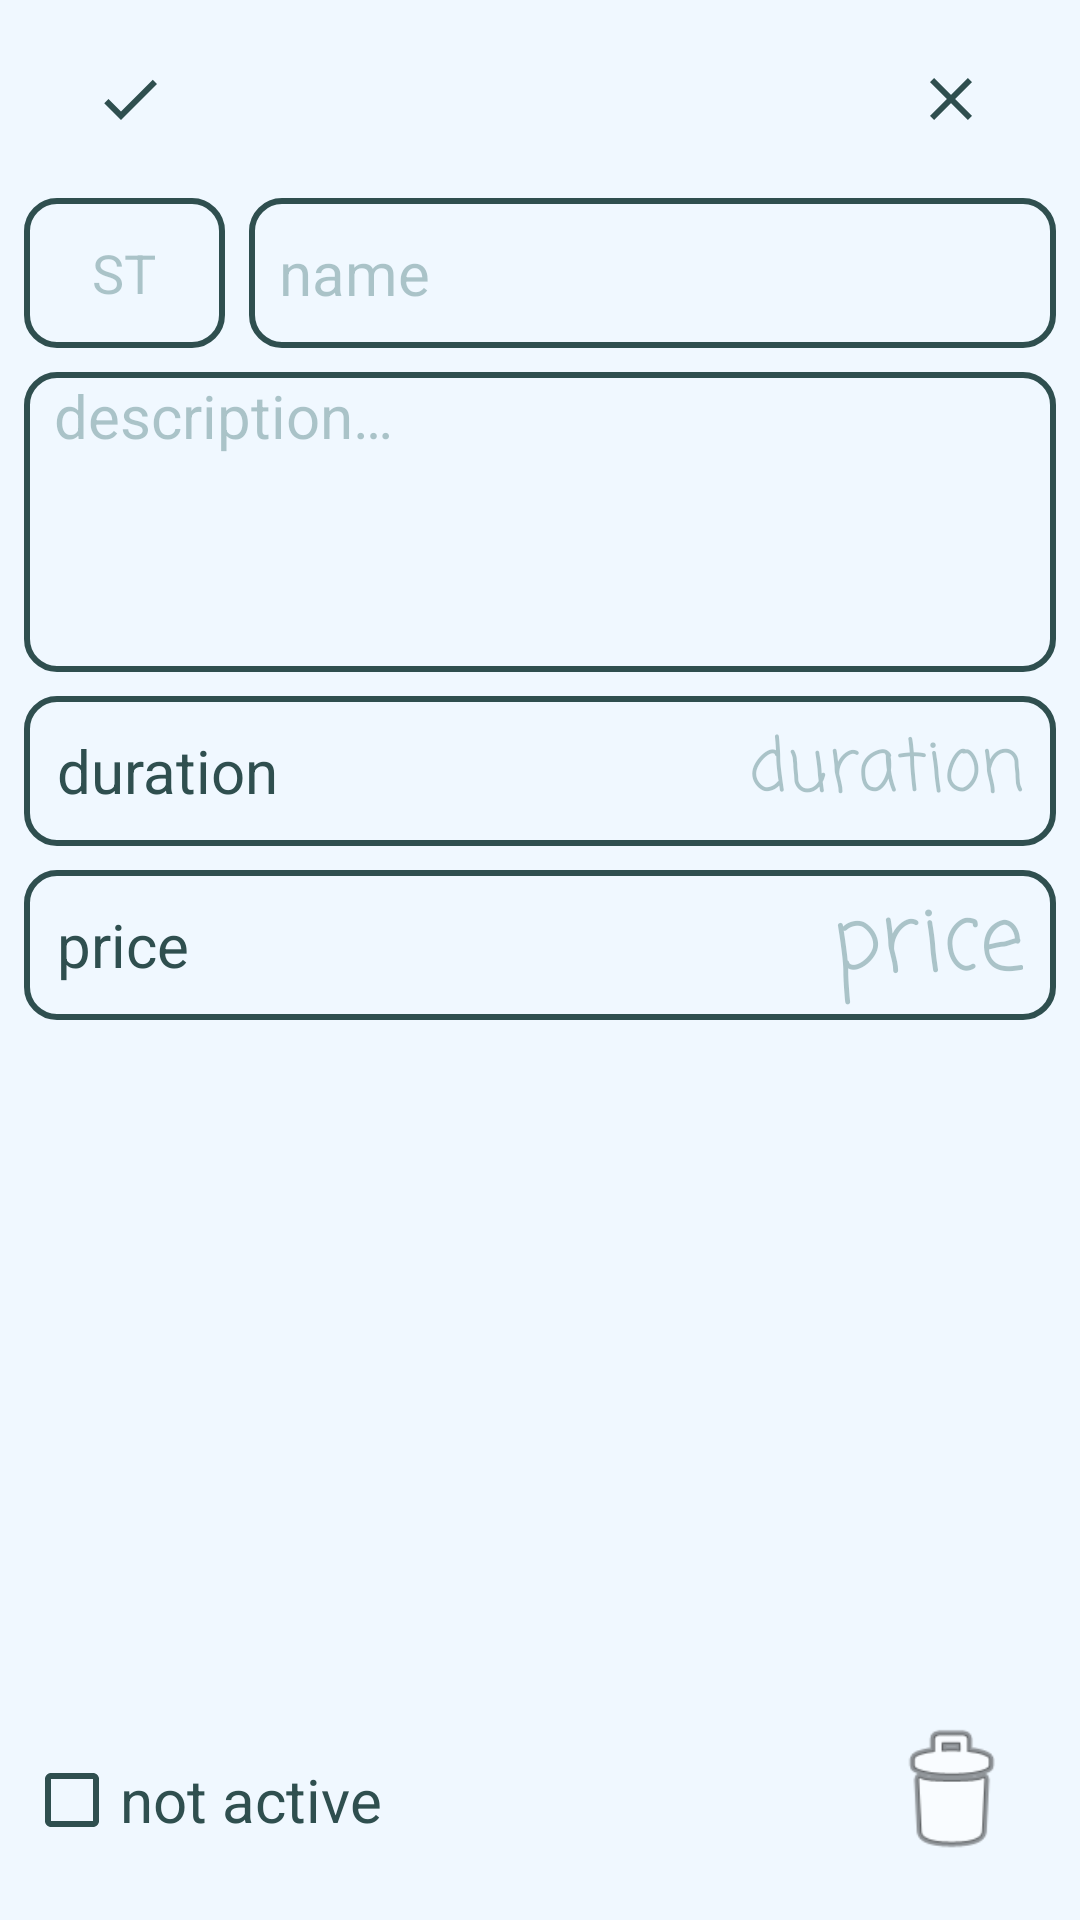

Icons on this 1080*1920 Android screen, each with its box as box(x1, y1, x2, y2):
cancellation: box(930, 78, 972, 120)
to accept: box(104, 80, 157, 120)
